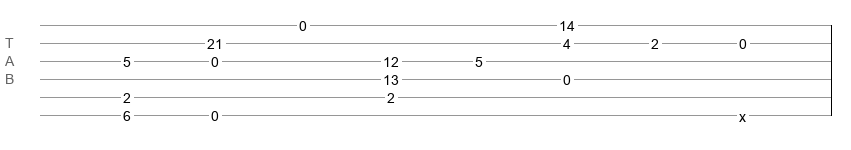0: (211, 54, 219, 64), (211, 108, 219, 118), (299, 18, 307, 28), (563, 72, 571, 82), (739, 36, 747, 46)
12: (383, 54, 399, 64)
13: (383, 72, 399, 82)
14: (559, 18, 575, 28)
2: (123, 90, 131, 100), (387, 90, 395, 100), (651, 36, 659, 46)
21: (207, 36, 223, 46)
4: (563, 36, 571, 46)
5: (123, 54, 131, 64), (475, 54, 483, 64)
6: (123, 108, 131, 118)
x: (739, 109, 746, 117)
